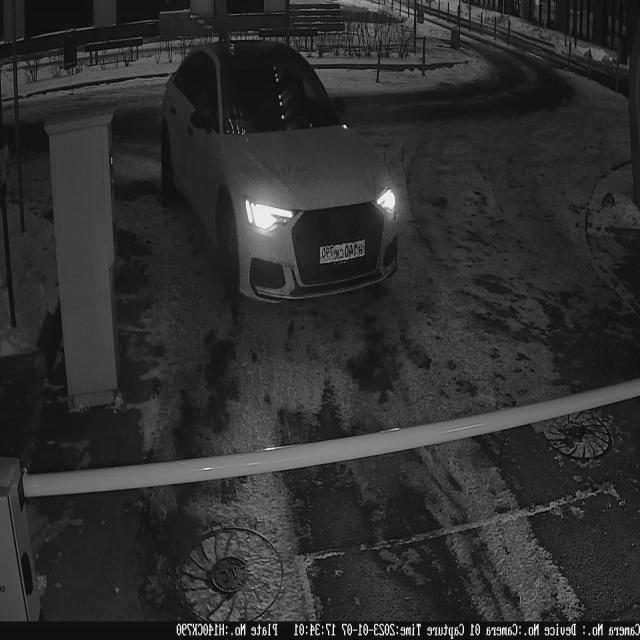car-plate-numbers: (319, 234, 368, 269)
